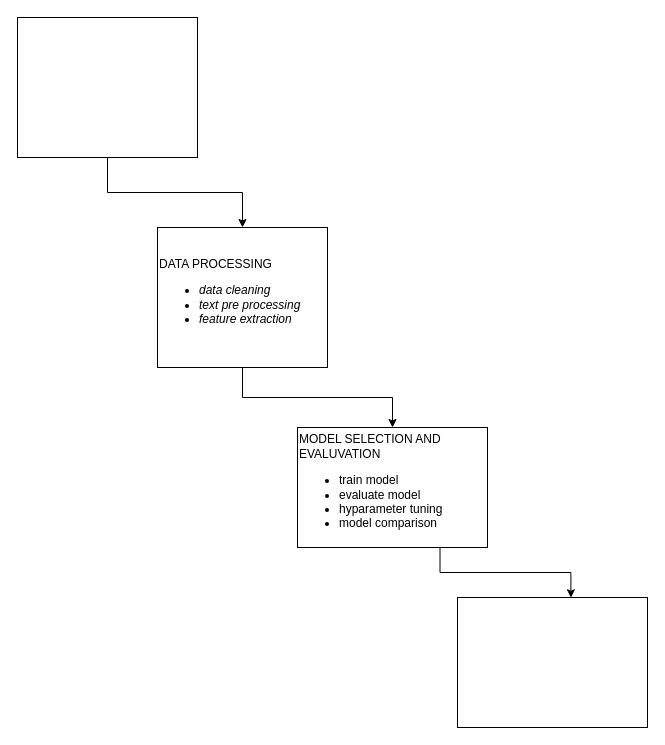
Some shapes in this 665 by 745 pixel diagram are drawn without their labels. The shapes that lost their labels are listed below. From the top down, each one's centre as x and y in pixels, then its label:
(x=107, y=87): DATA LOADING AND EXPLORATION load dataset explore dataset
(x=552, y=662): DEPLOYMENT deploy model develop application/web monitoring and maintanence
